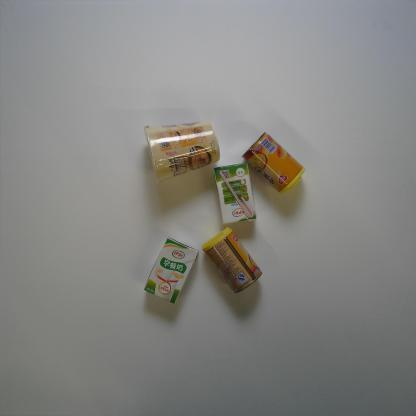Canned Food: (240, 131, 306, 195), (201, 226, 263, 293)
Instant Noodles: (144, 120, 220, 184)
Milk: (143, 237, 199, 305), (213, 162, 256, 225)
